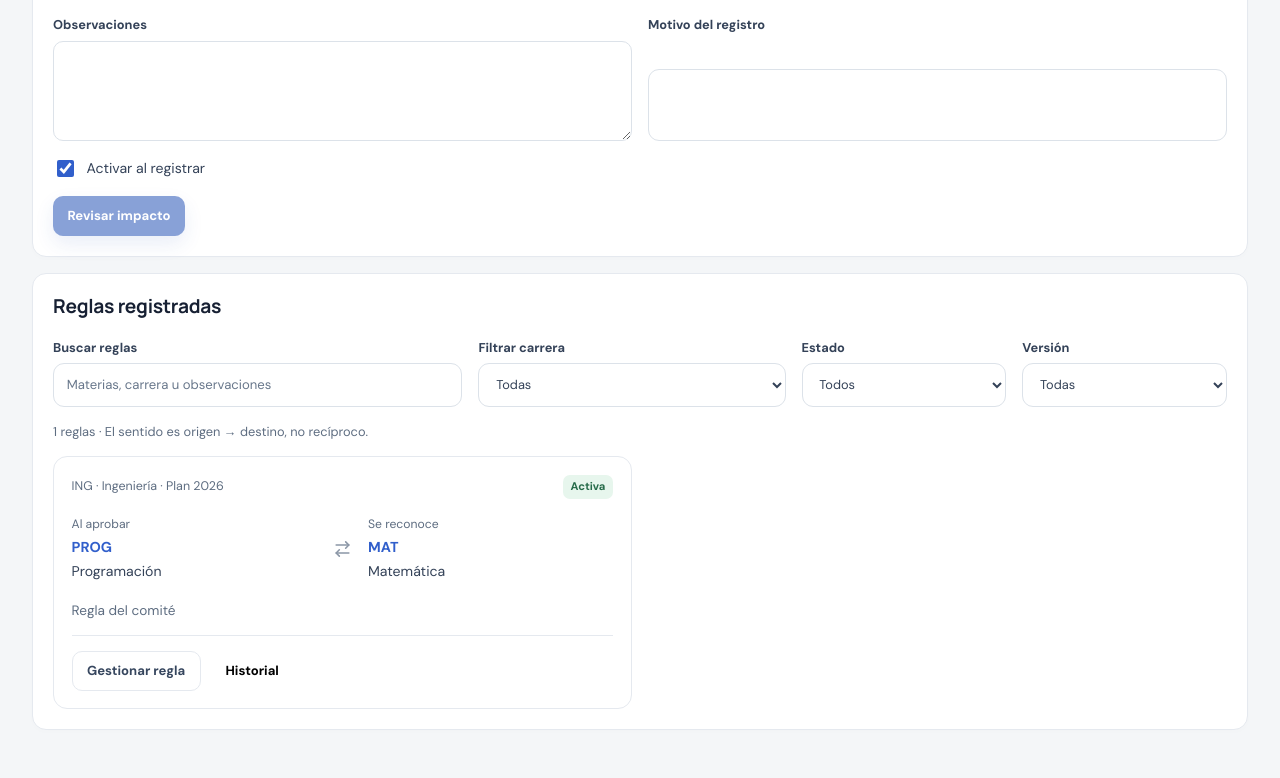
Test case: keeps state changes gated by impact and displays actor history
(page scrolled)
Click the button "Gestionar regla": coordinates (136, 671) [72,651,201,691]
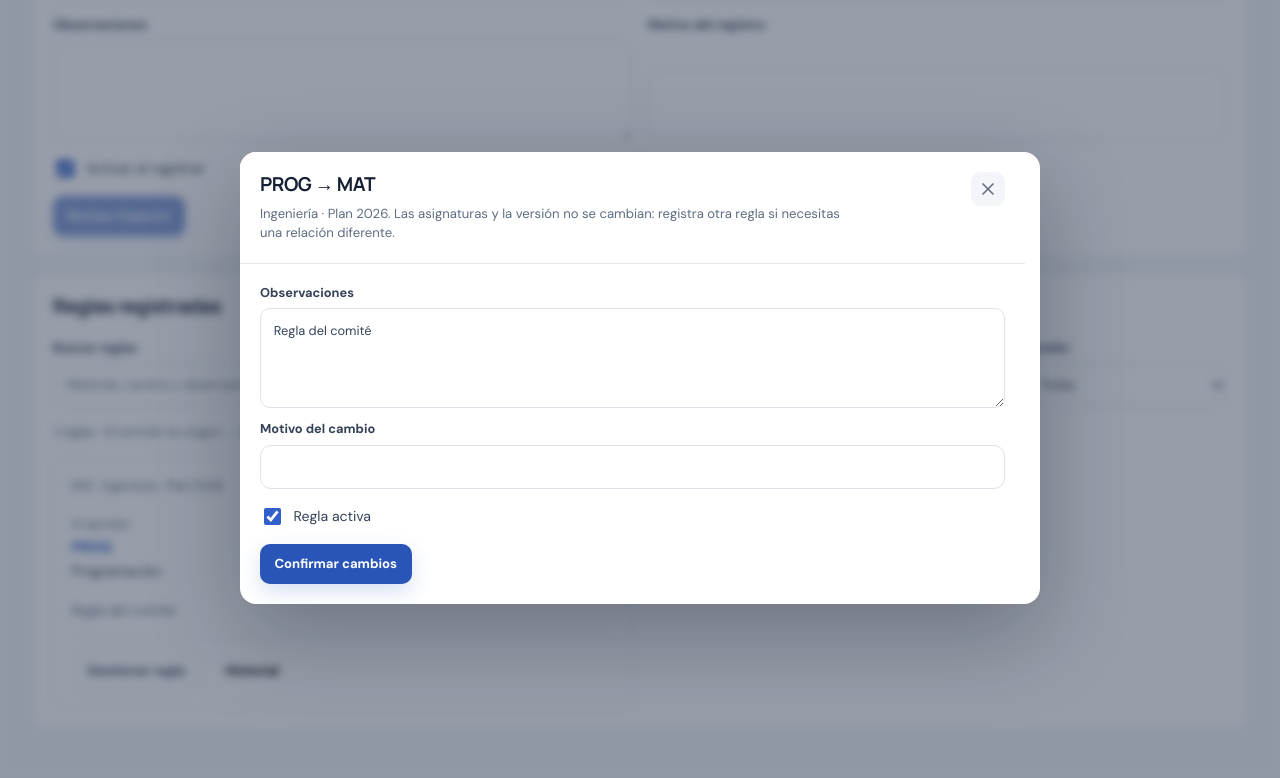
In the field labelled "Motivo del cambio": coordinates (632, 467) [260,445,1005,489], type "Revisión"
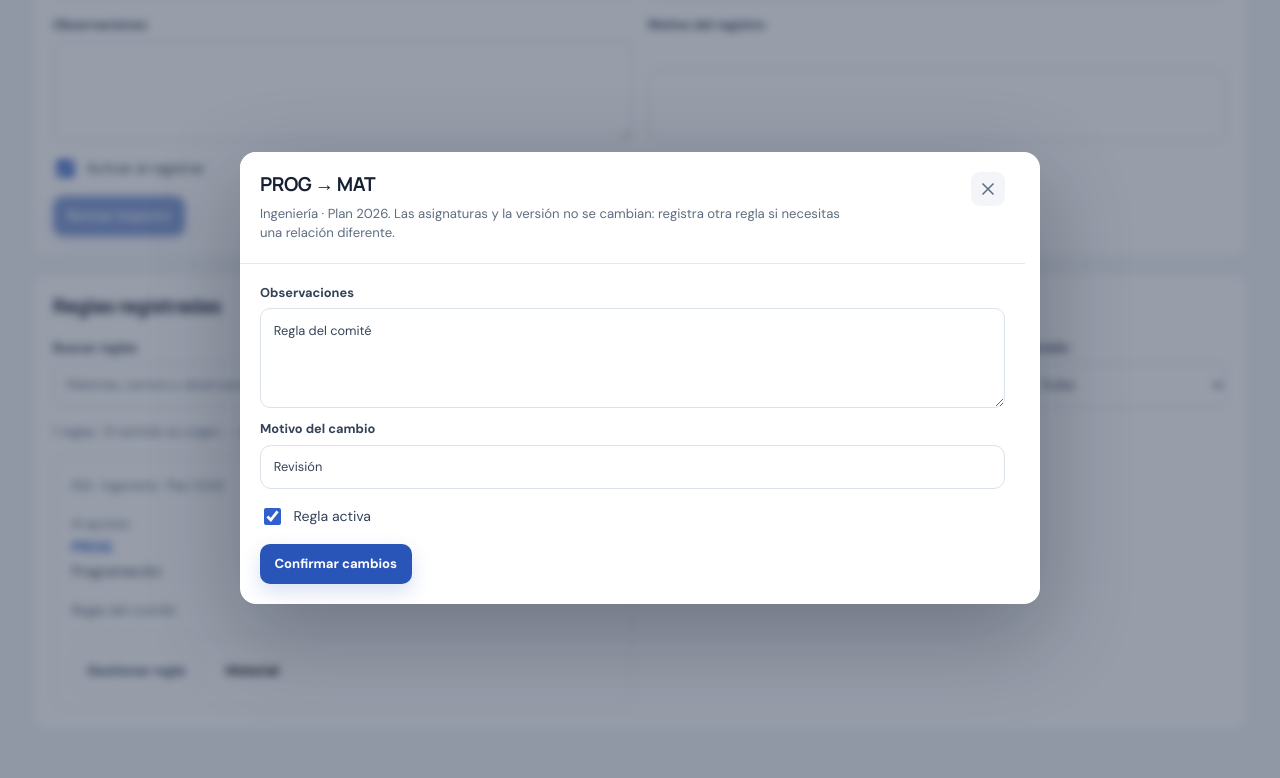
Click the checkbox labelled "Regla activa": coordinates (272, 516) [264,508,281,525]
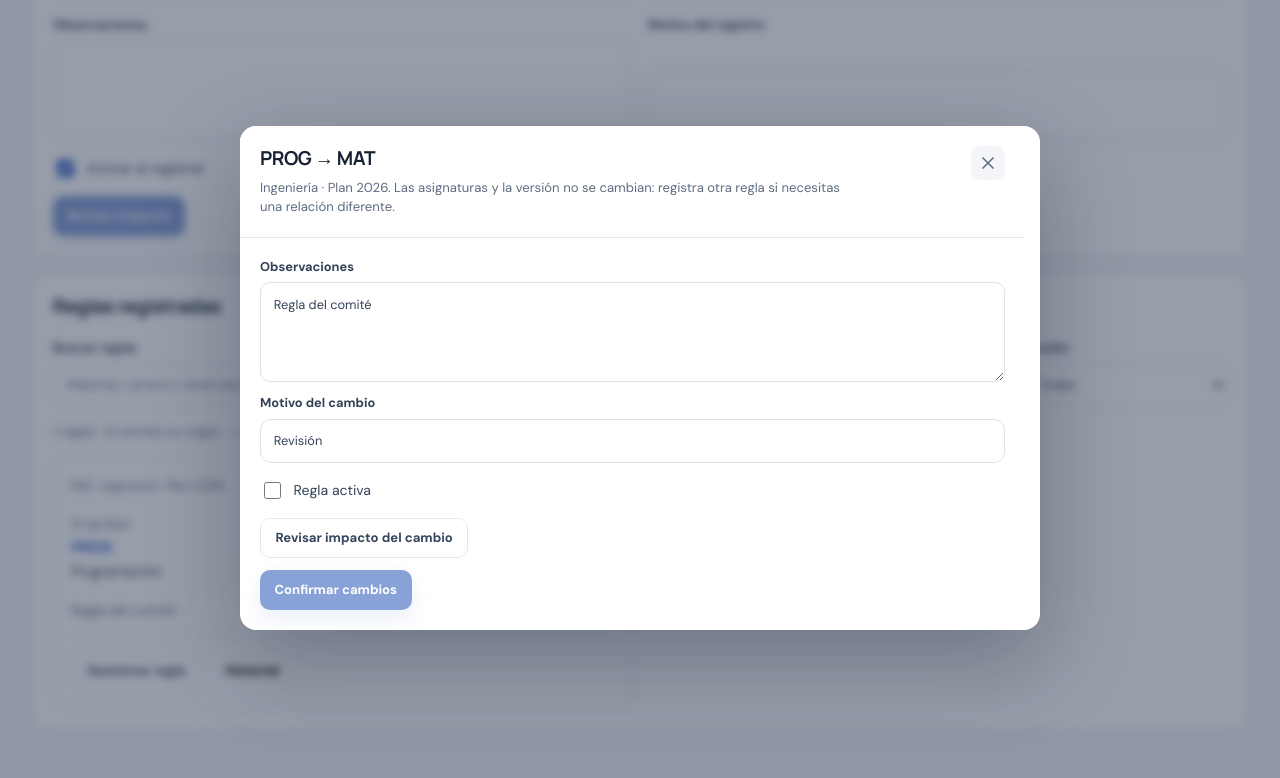
Expected: the button "Confirmar cambios" is disabled, [260,570,412,610]
Click the button "Revisar impacto del cambio": coordinates (364, 538) [260,518,468,558]
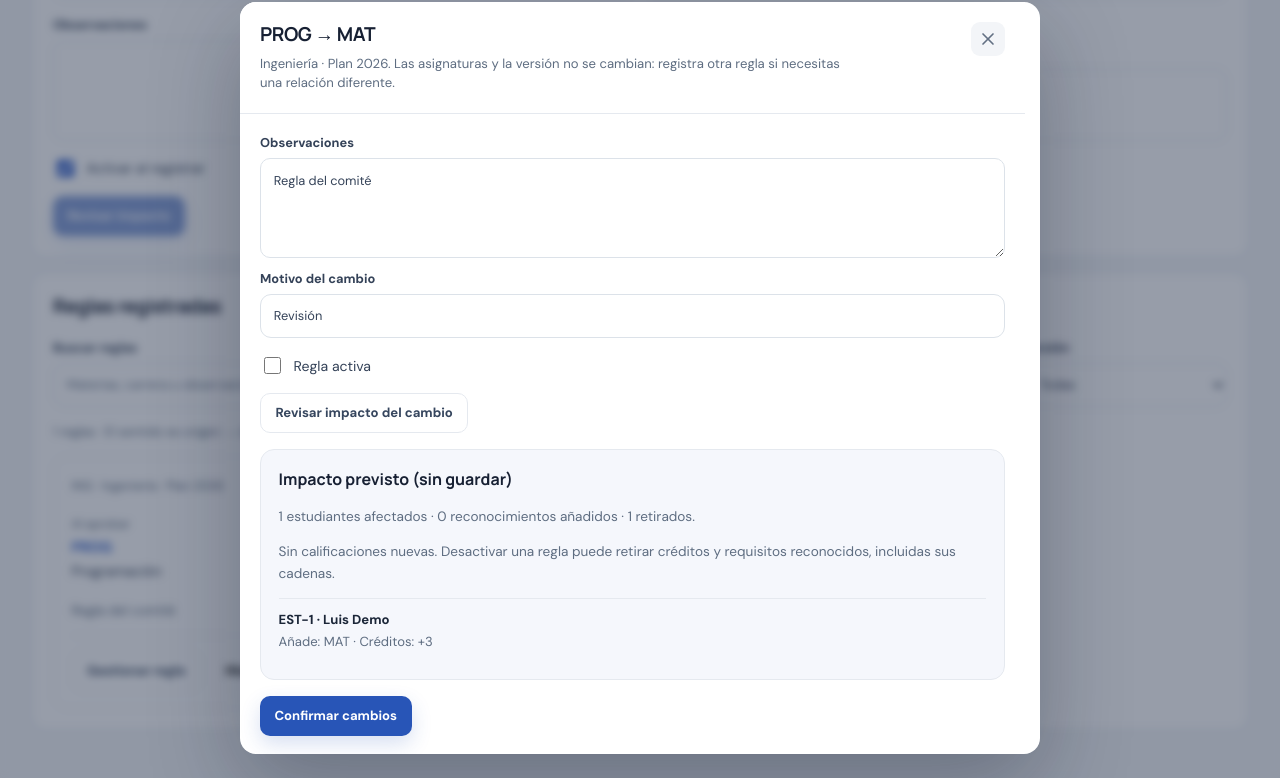
Expected: the heading "Impacto previsto (sin guardar)" is shown, [279,468,513,490]
Click the button "Confirmar cambios": coordinates (336, 716) [260,696,412,736]
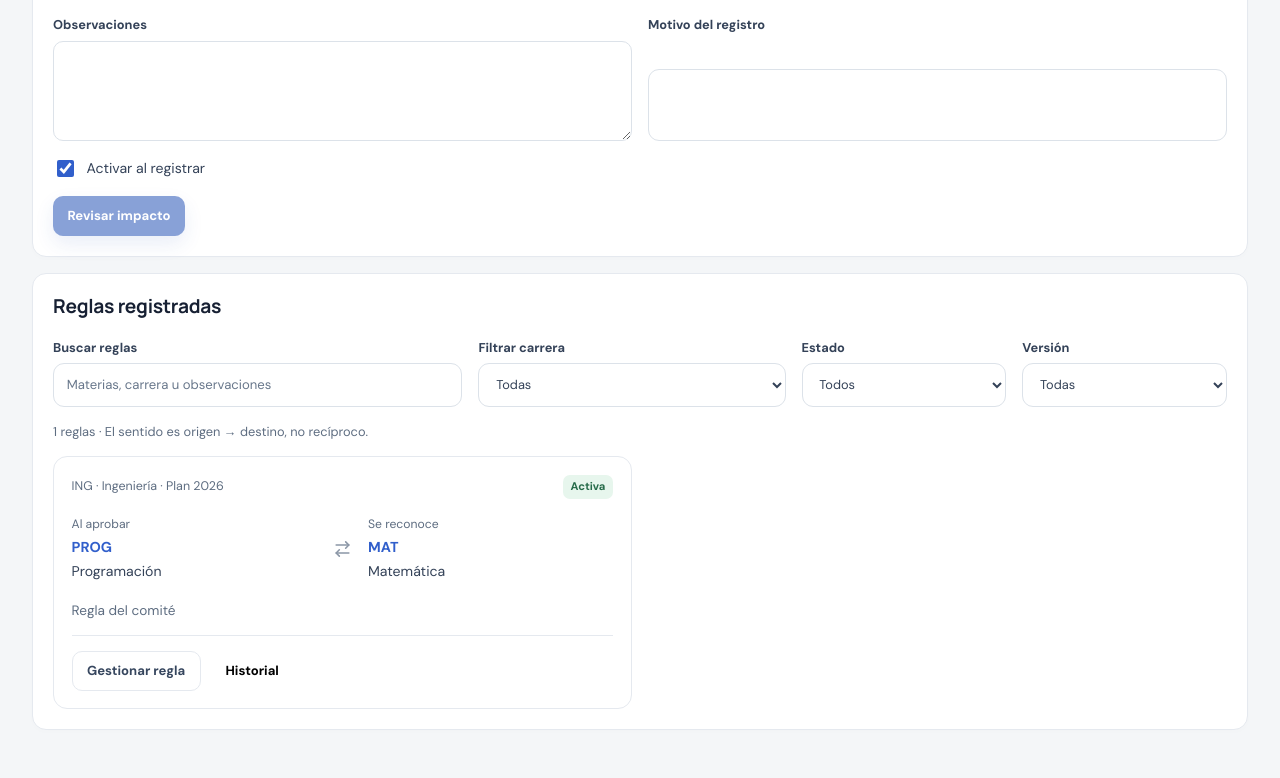
Expected: the dialog is gone
Click the button "Historial": coordinates (252, 671) [211,651,293,691]
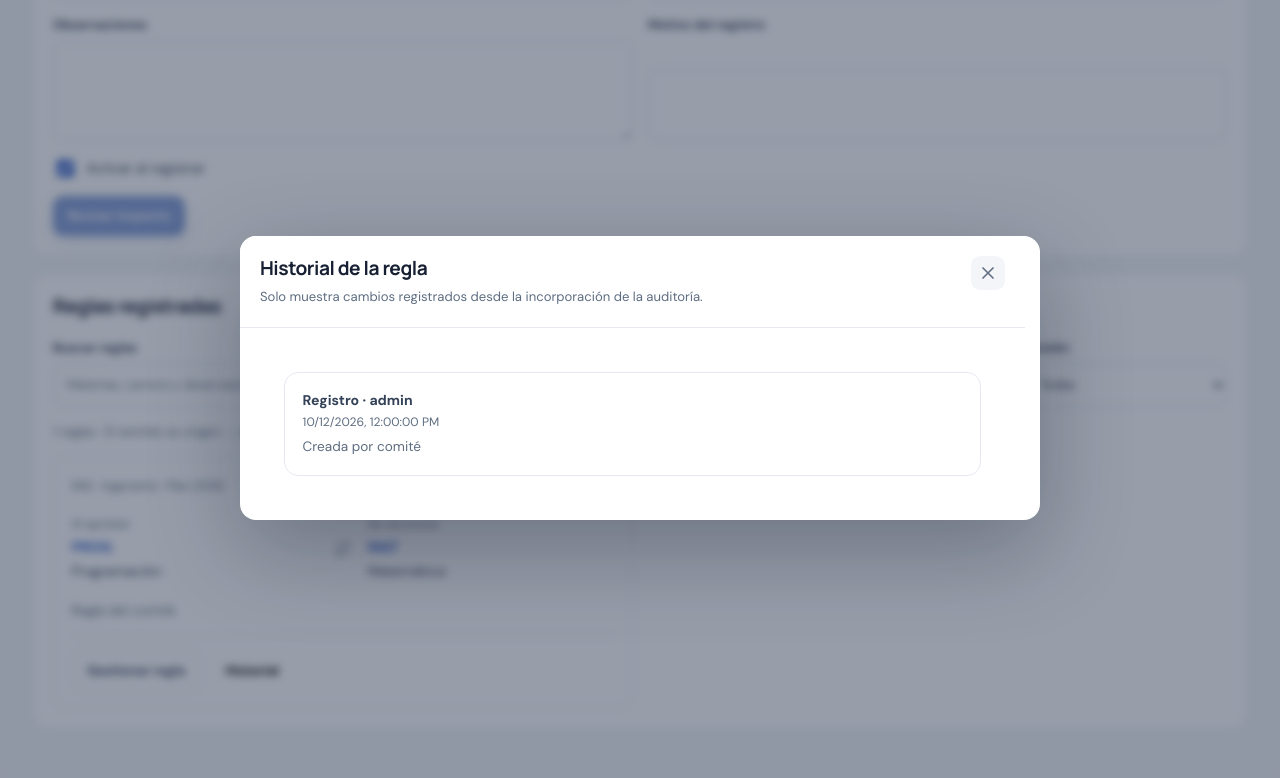
Expected: the text "Registro · admin" is shown, [303,390,413,408]
Expected: the text "Creada por comité" is shown, [303,438,421,455]
